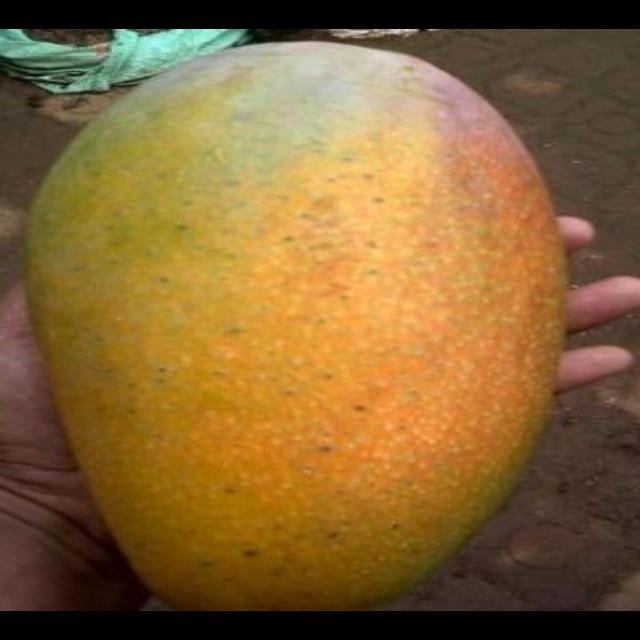mango: (28, 43, 565, 609)
